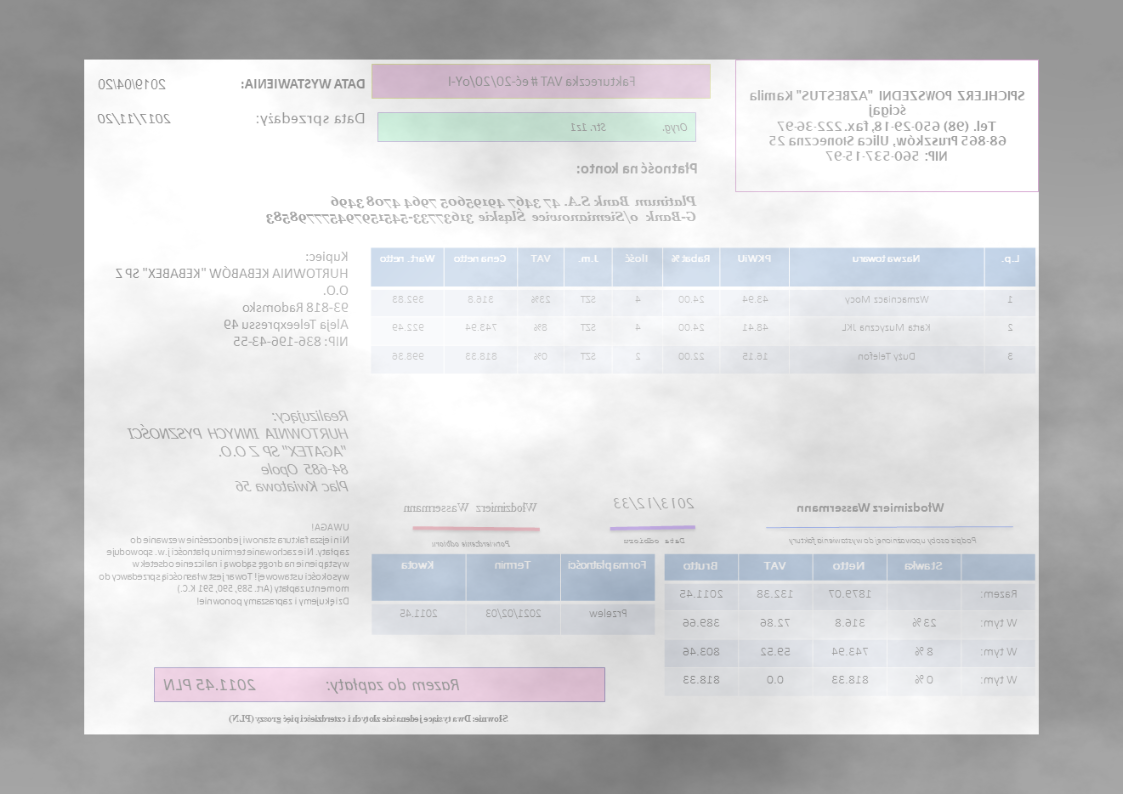Table: (368, 245, 1038, 376), (662, 552, 1037, 698), (368, 552, 657, 637)
TextBox: (113, 248, 351, 351), (94, 520, 352, 608), (746, 87, 1028, 165), (125, 405, 352, 498), (261, 191, 700, 229), (161, 673, 464, 697), (225, 710, 512, 727), (446, 71, 640, 90), (793, 496, 948, 517), (786, 532, 980, 547), (238, 72, 366, 94), (575, 158, 700, 179), (400, 498, 542, 515), (568, 118, 689, 135), (253, 110, 366, 128), (611, 493, 698, 513), (96, 109, 174, 128), (94, 74, 168, 92), (429, 537, 513, 550), (620, 532, 690, 547)
